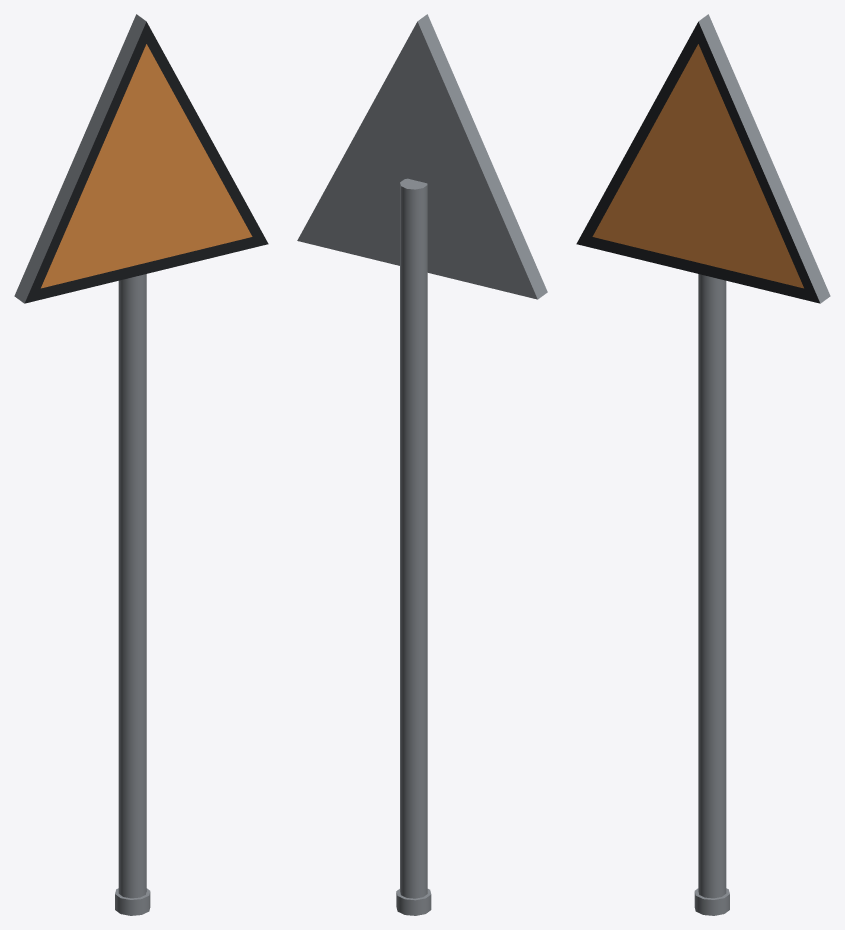
Rendered from Road Sign_3.fbx.
The picture shows the model from 3 angles, left to right: view 1: azimuth 30°, elevation 25°; view 2: azimuth 150°, elevation 25°; view 3: azimuth 330°, elevation 25°; orthographic projection.
Parts seen in each view (by area): view 1: Road Sign_3; view 2: Road Sign_3; view 3: Road Sign_3.
Boxes of the visible parts, x1,y1,x2,y2 form: Road Sign_3: (14,14,268,915); Road Sign_3: (297,14,547,915); Road Sign_3: (576,14,830,915).
Size of the model in its own units: 66.91 by 235 by 10.89.
